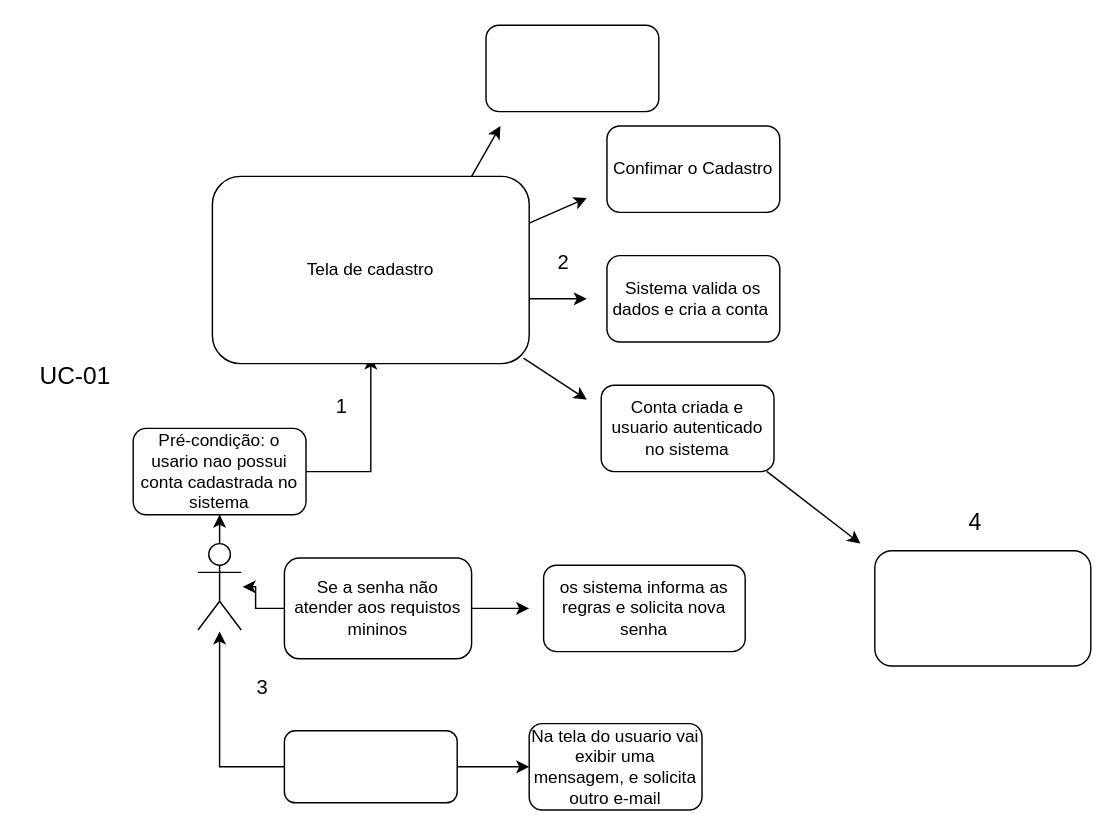
Some shapes in this 1116 by 835 pixel diagram are drawn without their labels. The shapes that lost their labels are listed below. From the top down, each one's centre as x and y in pixels, then its label:
At (x=572, y=68): "Preeche o nome , e-mail e senha".
At (x=219, y=586): "Usuario".
At (x=982, y=607): "Usuário é redirecioando para a tela principal".
At (x=370, y=766): "Se o Usuário ja estiver cadastro".
